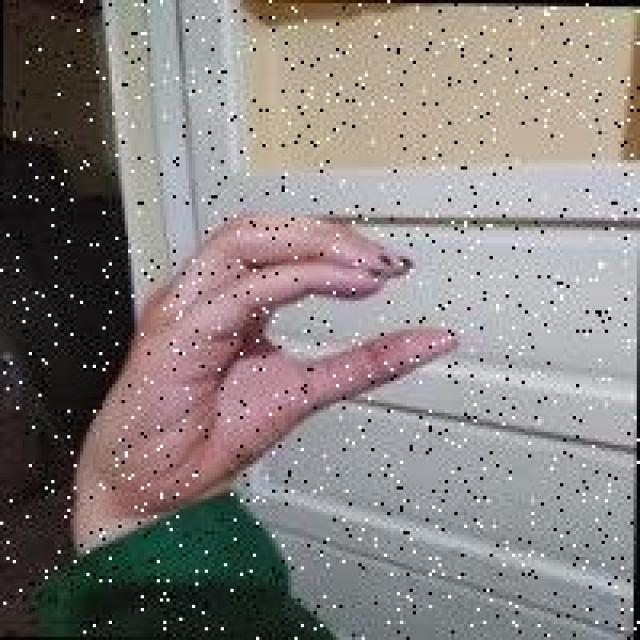C: (96, 210, 467, 498)
